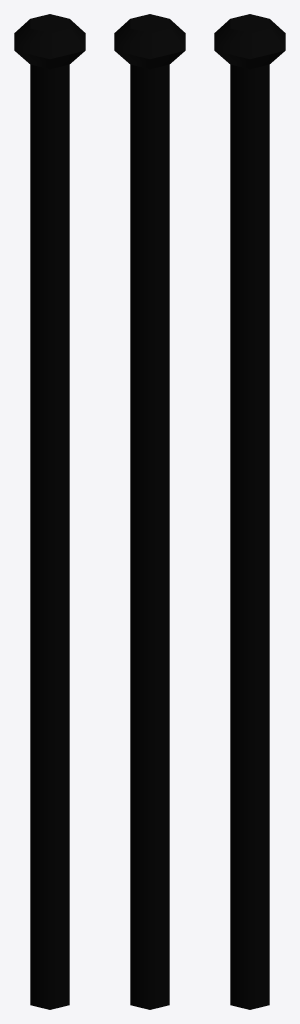
The model's file is direk.dae.
3 renders of one model, left to right at view 1: azimuth 30°, elevation 25°; view 2: azimuth 210°, elevation 25°; view 3: azimuth 330°, elevation 25°, orthographic.
Visible parts, largest first — view 1: stop_light_extension; view 2: stop_light_extension; view 3: stop_light_extension.
Part boxes in pixels (left/top/right/bottom): stop_light_extension: left=14, top=14, right=85, bottom=1009; stop_light_extension: left=114, top=14, right=185, bottom=1009; stop_light_extension: left=214, top=14, right=285, bottom=1009.
Size of the model in its own units: 0.2603 by 0.2254 by 3.41.
Materials: 1 (1 with a texture image).
